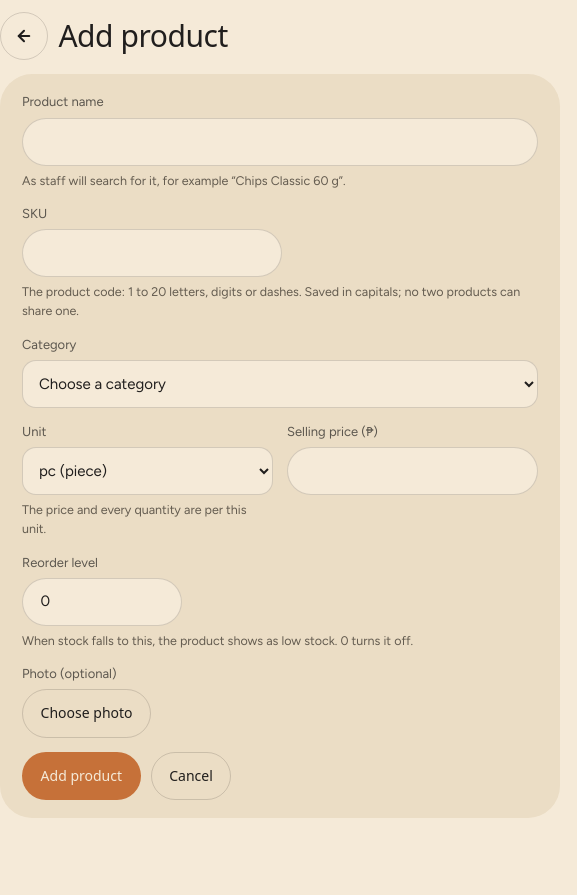
Test: Add product (PROD-02, PROD-03) › a refused save’s message goes away once the form is edited
The width and height of the screenshot is (577, 895).
Type "Copy" into the field labelled "Product name" at (280, 142), box [22,118,538,166]
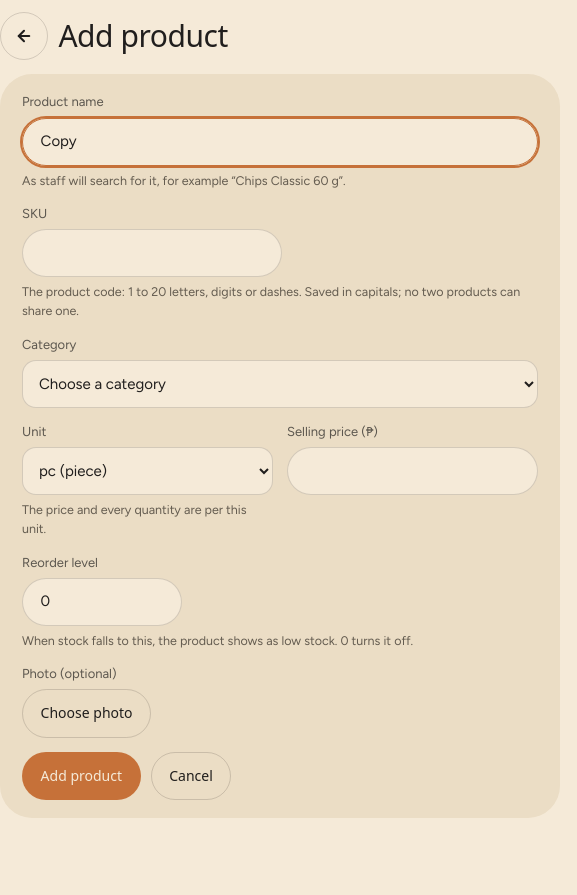
Type "ck-12" into the field labelled "SKU" at (152, 253), box [22,229,282,277]
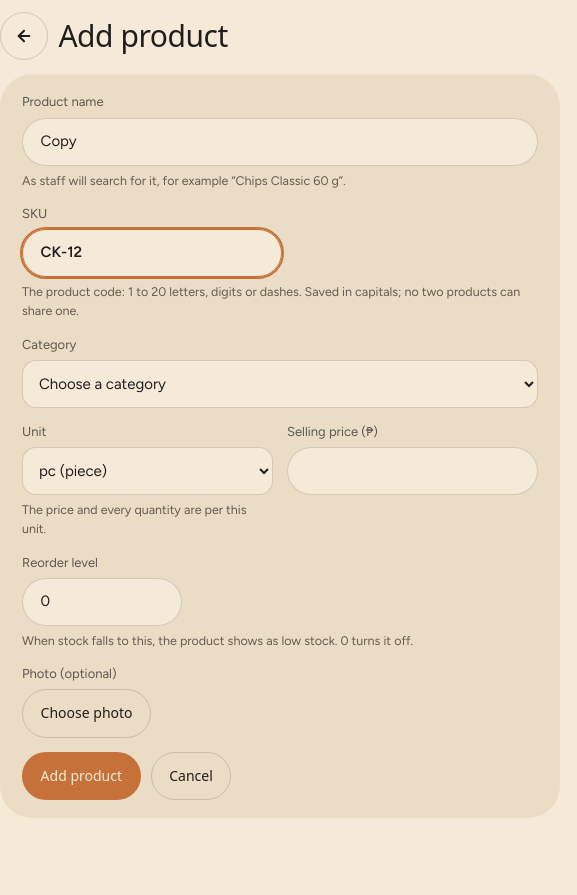
Select "Snacks" in the dropdown labelled "Category" at (280, 384), box [22,360,538,408]
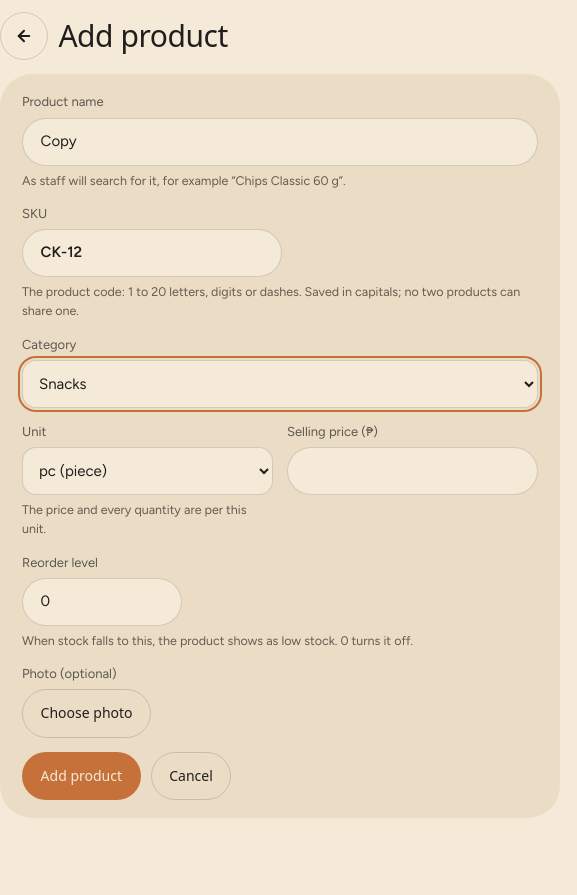
Type "45" into the field labelled "Selling price (₱)" at (412, 471), box [287,447,538,495]
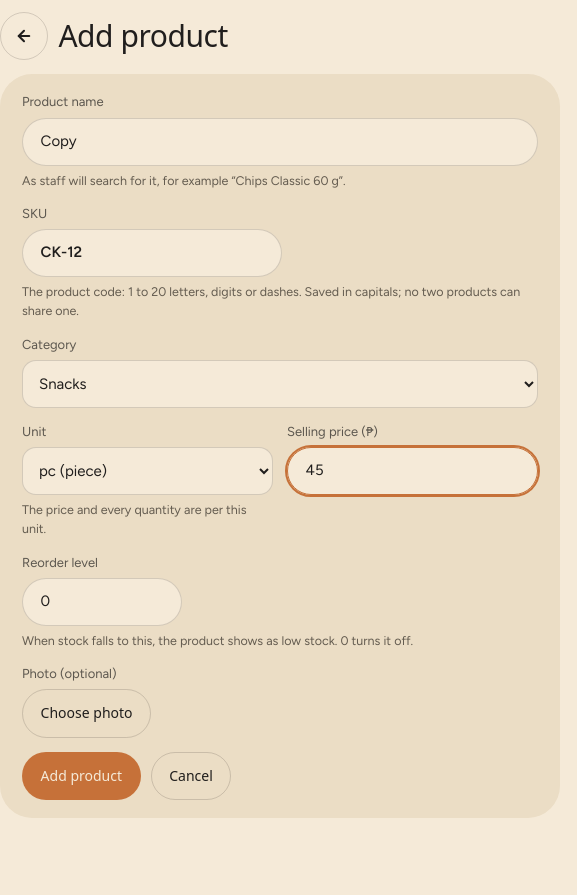
Click the button "Add product" at (81, 776), box [22,752,141,800]
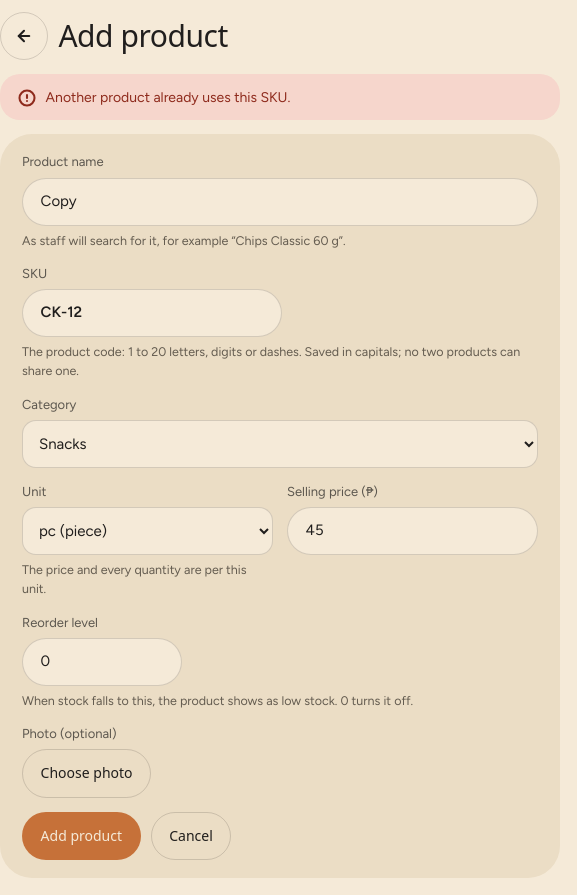
expect the text "Another product already uses this SKU." is shown: met, box [46,88,290,107]
Type "X" into the field labelled "SKU" at (152, 313), box [22,289,282,337]
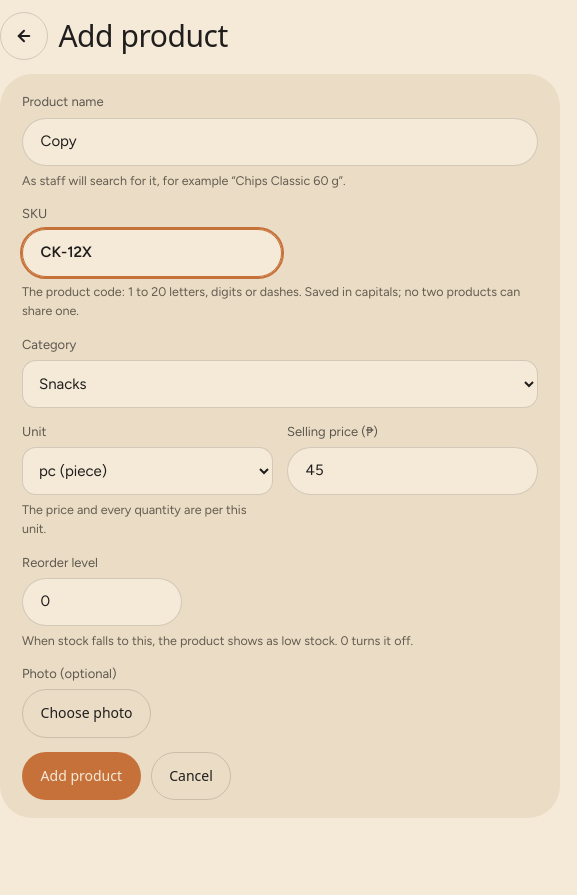
expect the text "Another product already uses this SKU." is gone: met
